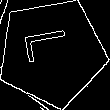L_E: (24, 33, 80, 72)
